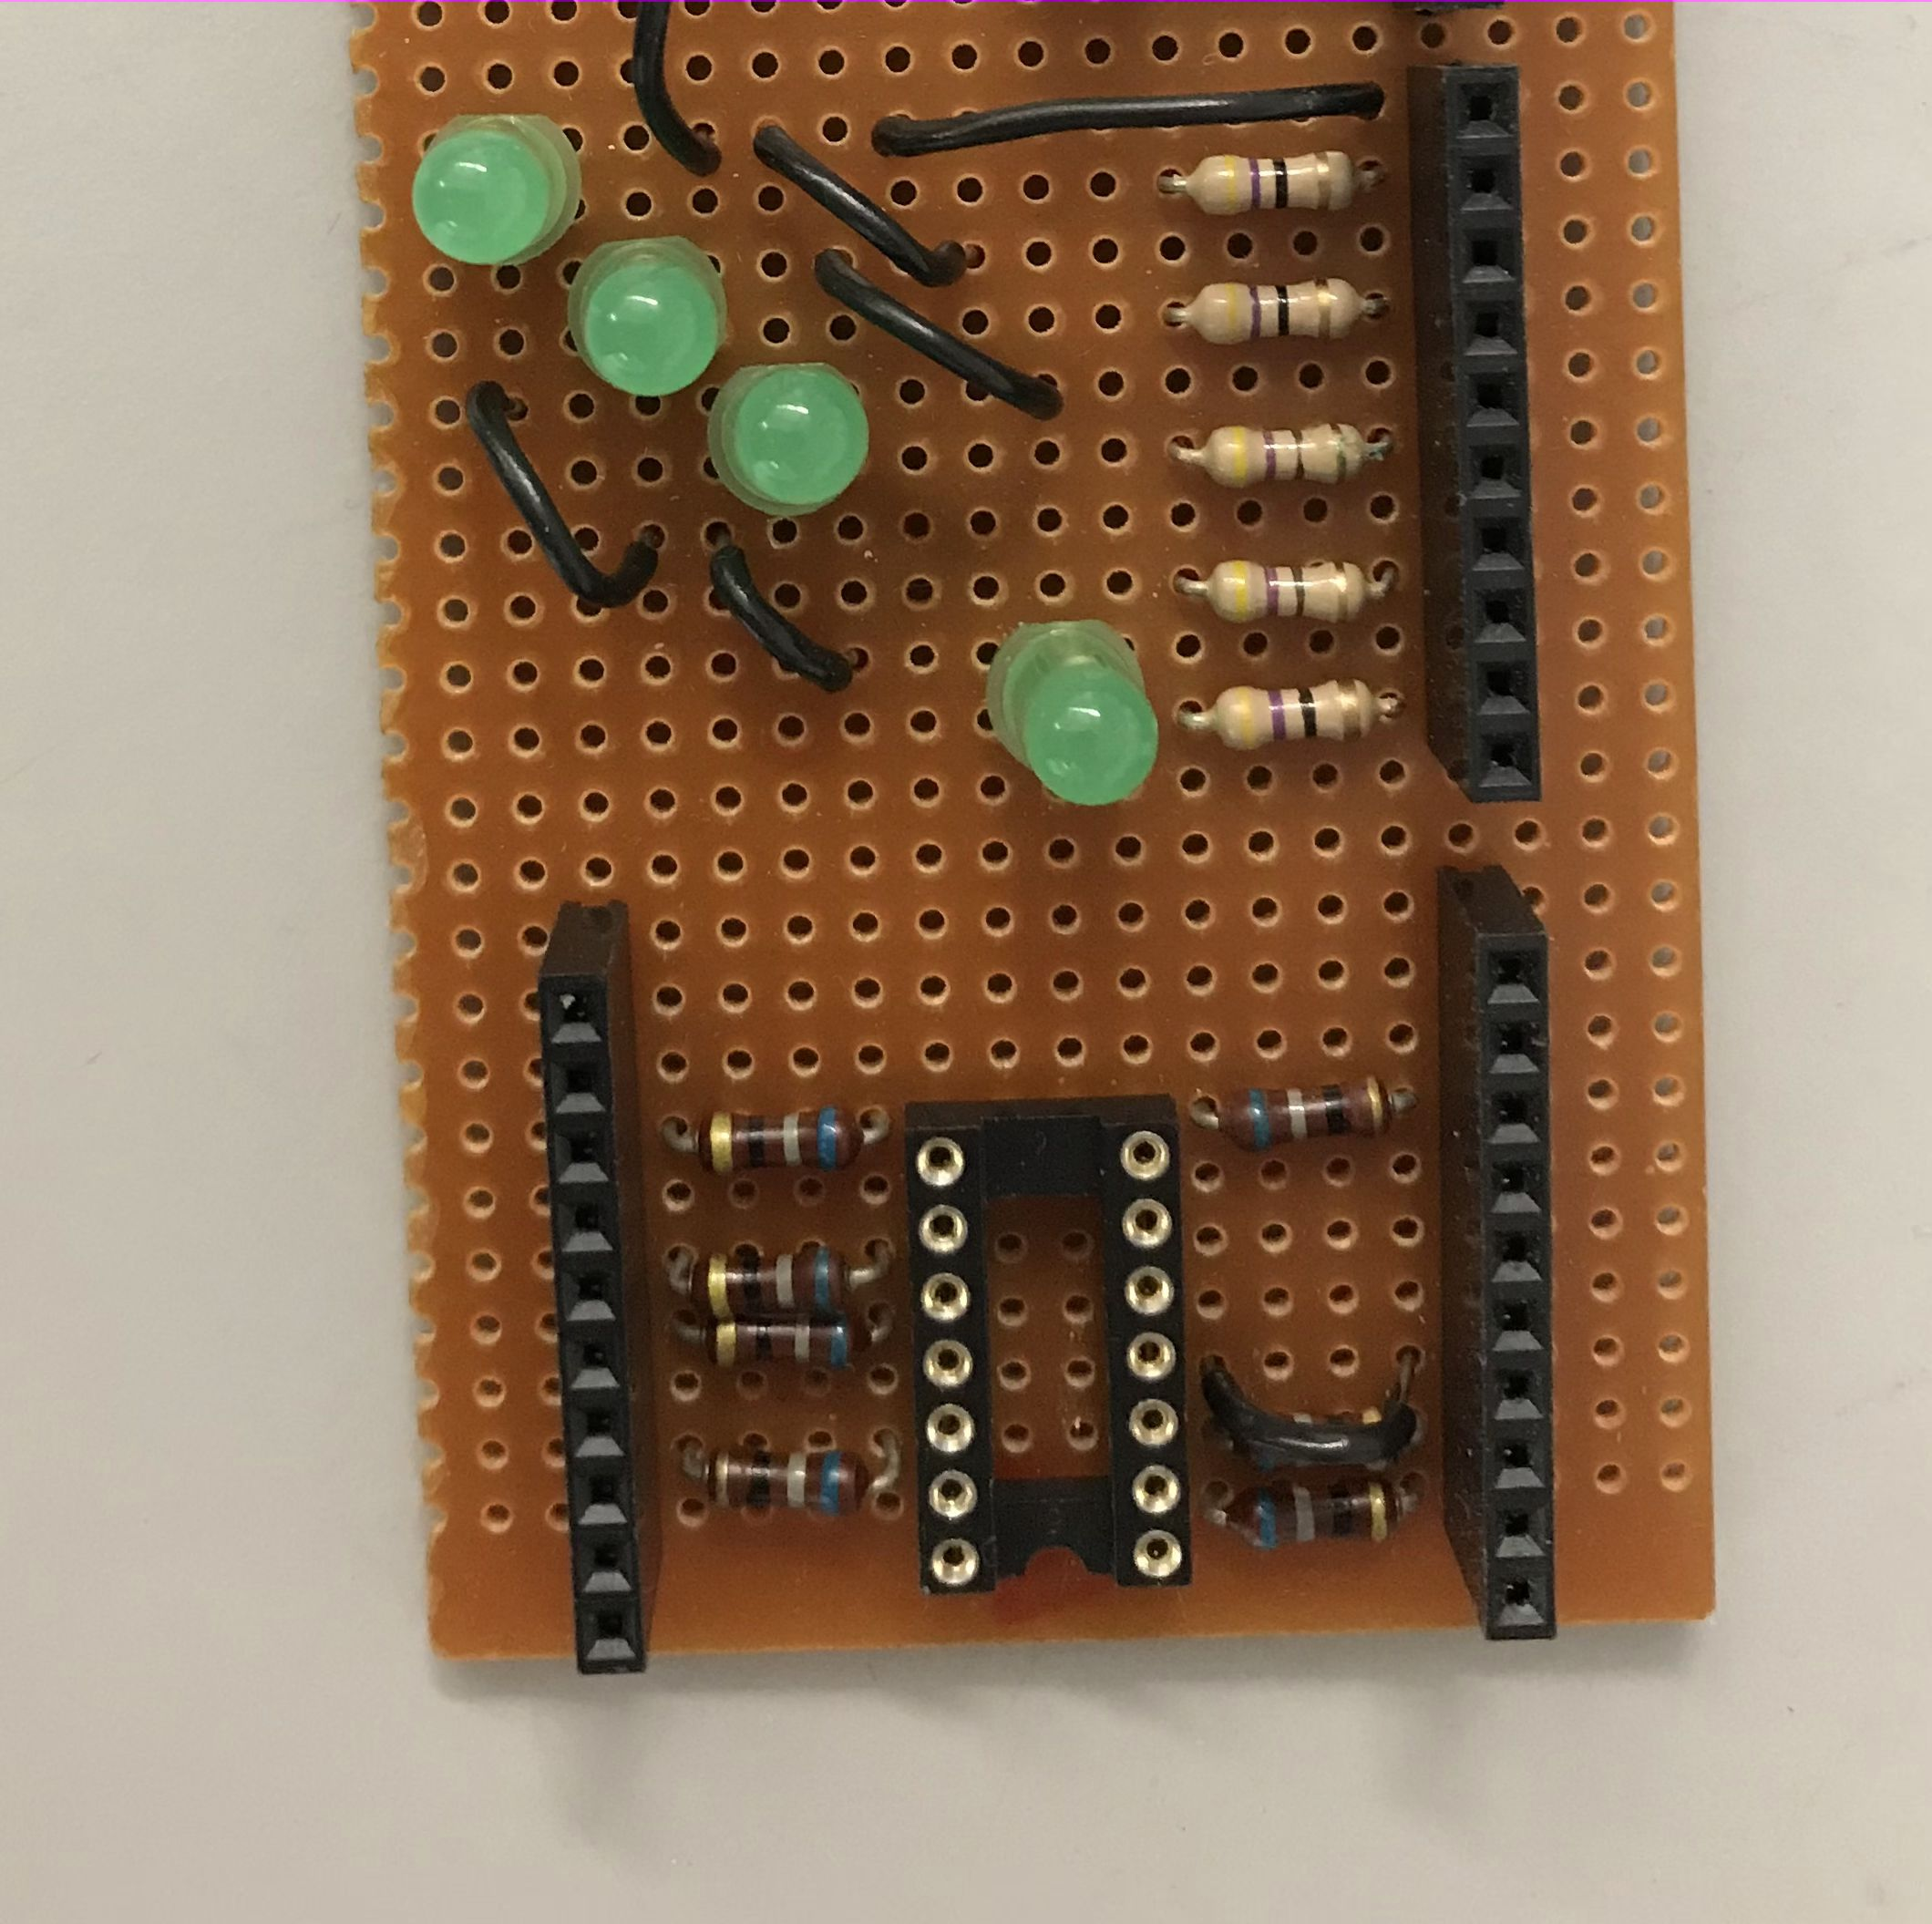LED: (979, 617, 1164, 809), (407, 107, 583, 271), (562, 231, 731, 400), (704, 359, 872, 516)
Resistor: (692, 1443, 882, 1526), (1194, 675, 1386, 756), (1217, 1480, 1411, 1558), (1210, 1075, 1398, 1152), (680, 1103, 872, 1179), (676, 1244, 868, 1320), (1191, 419, 1379, 492), (1180, 277, 1367, 349), (1196, 555, 1379, 627), (692, 1311, 877, 1380), (1180, 150, 1358, 215)
